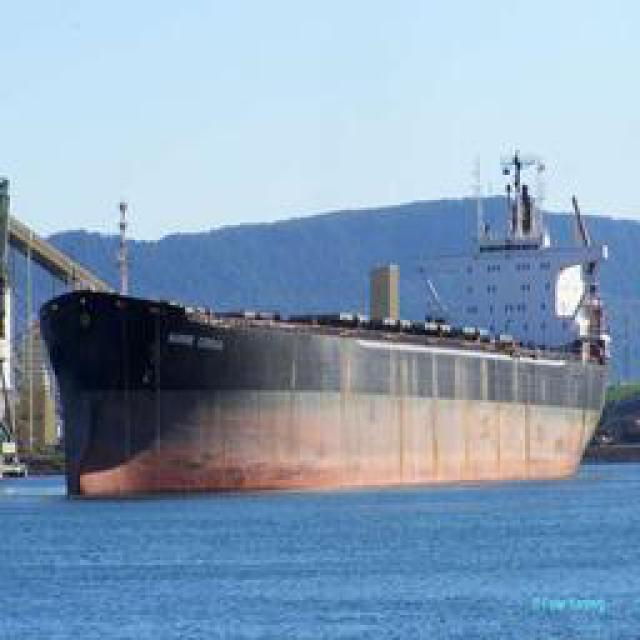Ship: (32, 170, 622, 503)
